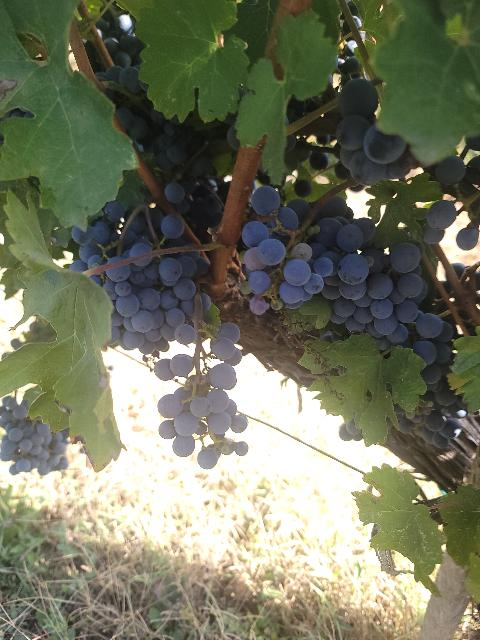grapes: (279, 206, 458, 406), (70, 201, 209, 354), (154, 322, 249, 469), (0, 395, 69, 475), (241, 221, 286, 296)
